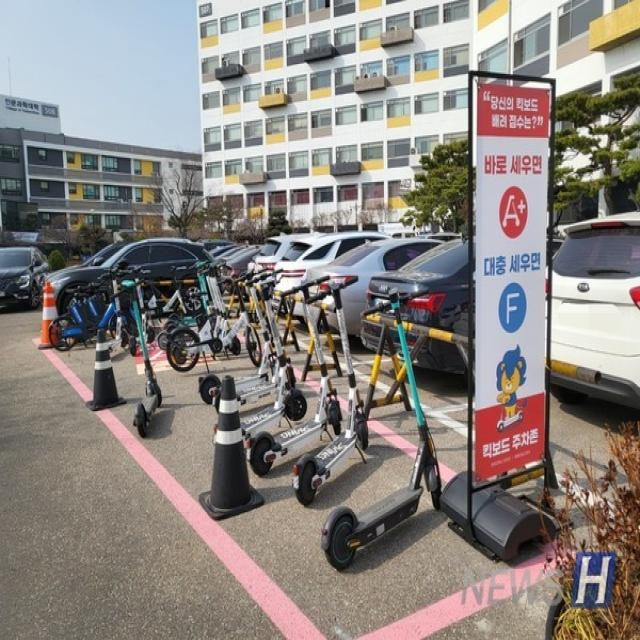kickboard_ok: (376, 296, 444, 534), (328, 282, 369, 477), (300, 277, 332, 438)
